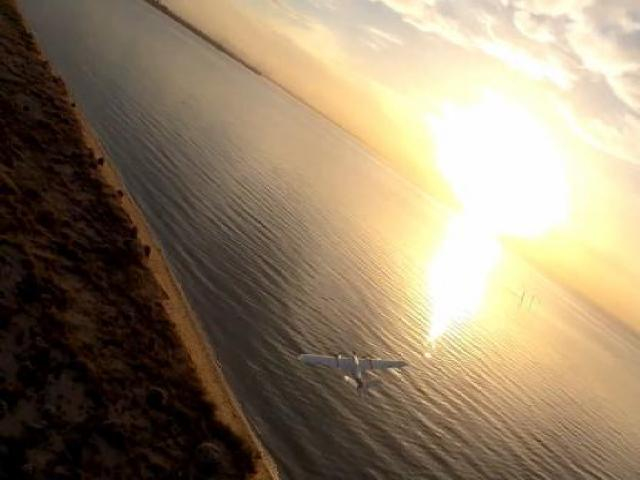uav: (292, 348, 406, 392)
